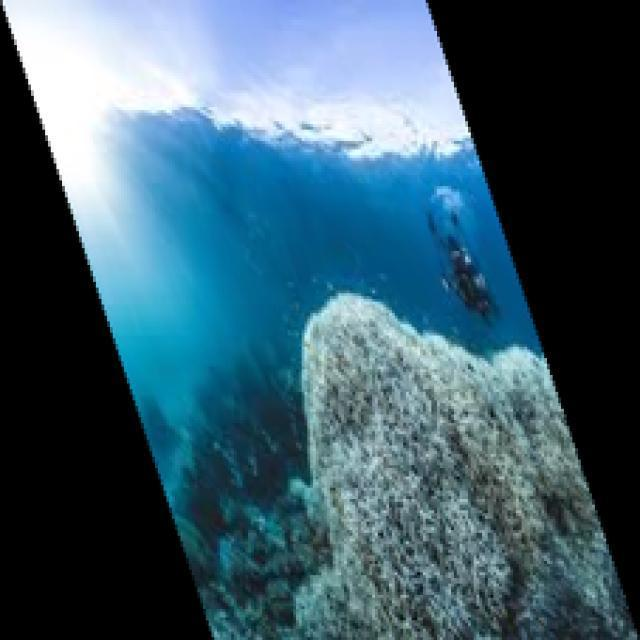Bleached: (299, 292, 638, 640)
